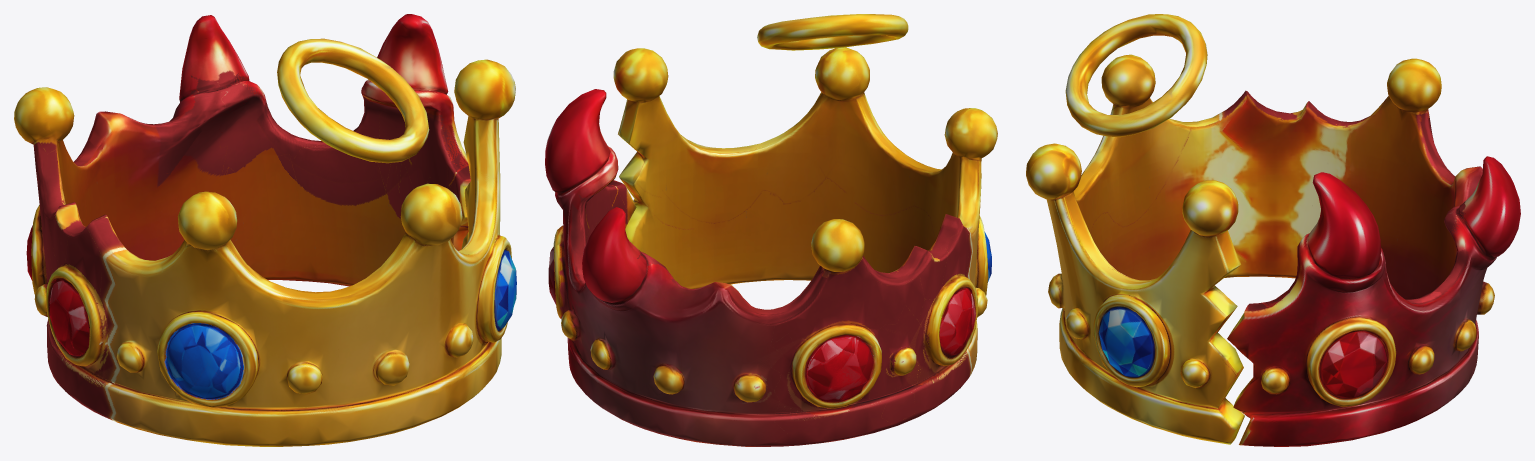
Rendered from Crown_Broken_B_backfix.glb.
3 renders of one model, left to right at view 1: azimuth 30°, elevation 25°; view 2: azimuth 150°, elevation 25°; view 3: azimuth 270°, elevation 25°, orthographic. The views are drawn at different scales.
Parts seen in each view (by area): view 1: tripo_node_2bffe687-b787-4ac0-8866-93053f635ece; view 2: tripo_node_2bffe687-b787-4ac0-8866-93053f635ece; view 3: tripo_node_2bffe687-b787-4ac0-8866-93053f635ece.
Part boxes in pixels (<box>): tripo_node_2bffe687-b787-4ac0-8866-93053f635ece: <box>14,14,516,446</box>; tripo_node_2bffe687-b787-4ac0-8866-93053f635ece: <box>545,14,997,446</box>; tripo_node_2bffe687-b787-4ac0-8866-93053f635ece: <box>1026,14,1520,446</box>.
Bounding box in the file's own units: 0.9096 × 0.7374 × 1.
Materials: 1 (1 with a texture image).
